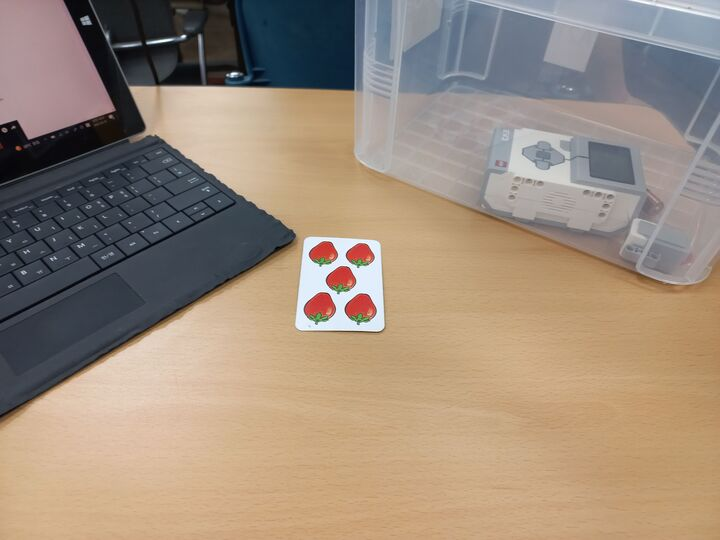strawberry5: (293, 237, 387, 332)
